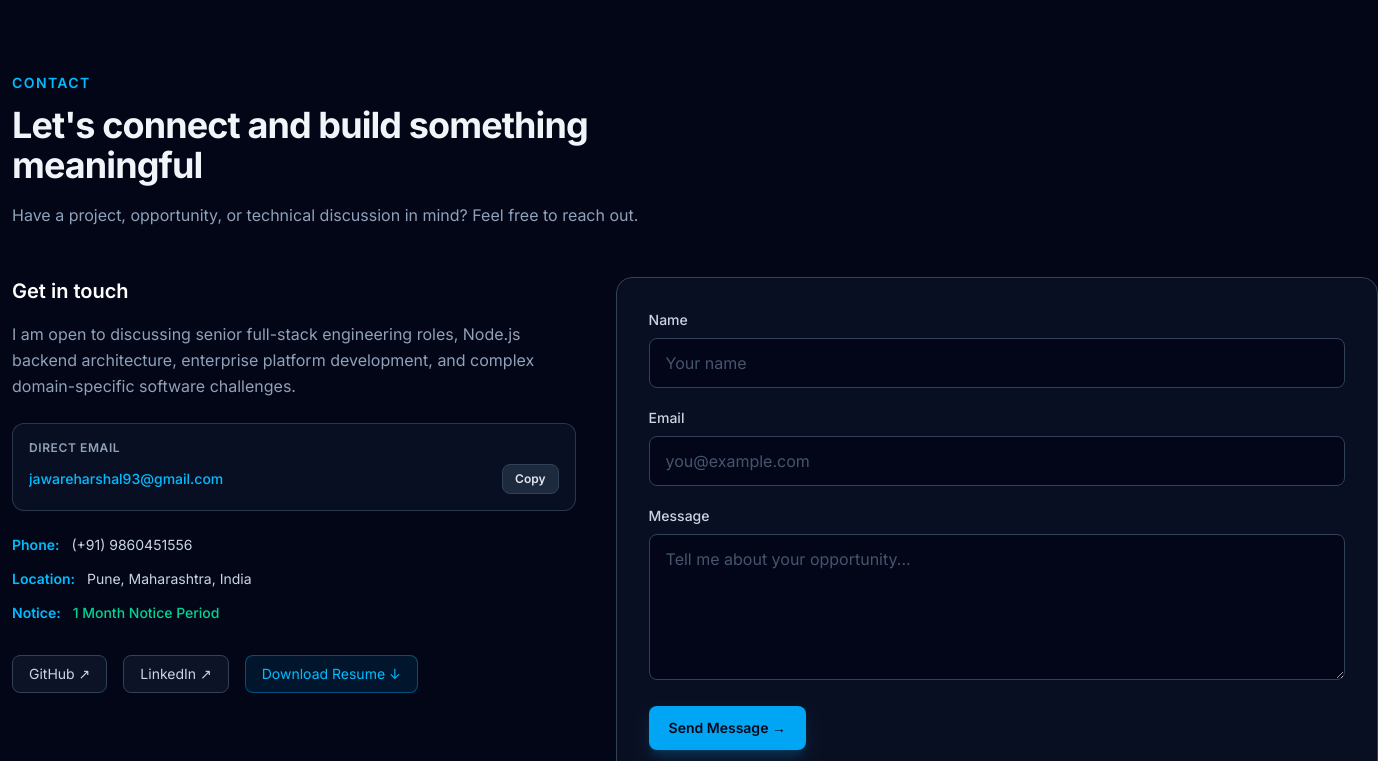
Test: Contact › shows validation errors for empty submission
The width and height of the screenshot is (1378, 761).
What coordinates should you click on to do the following:
click the button "Send Message →"
I would click on:
 (727, 728)
Its box is x1=648 y1=706 x2=806 y2=750.
(page scrolled)
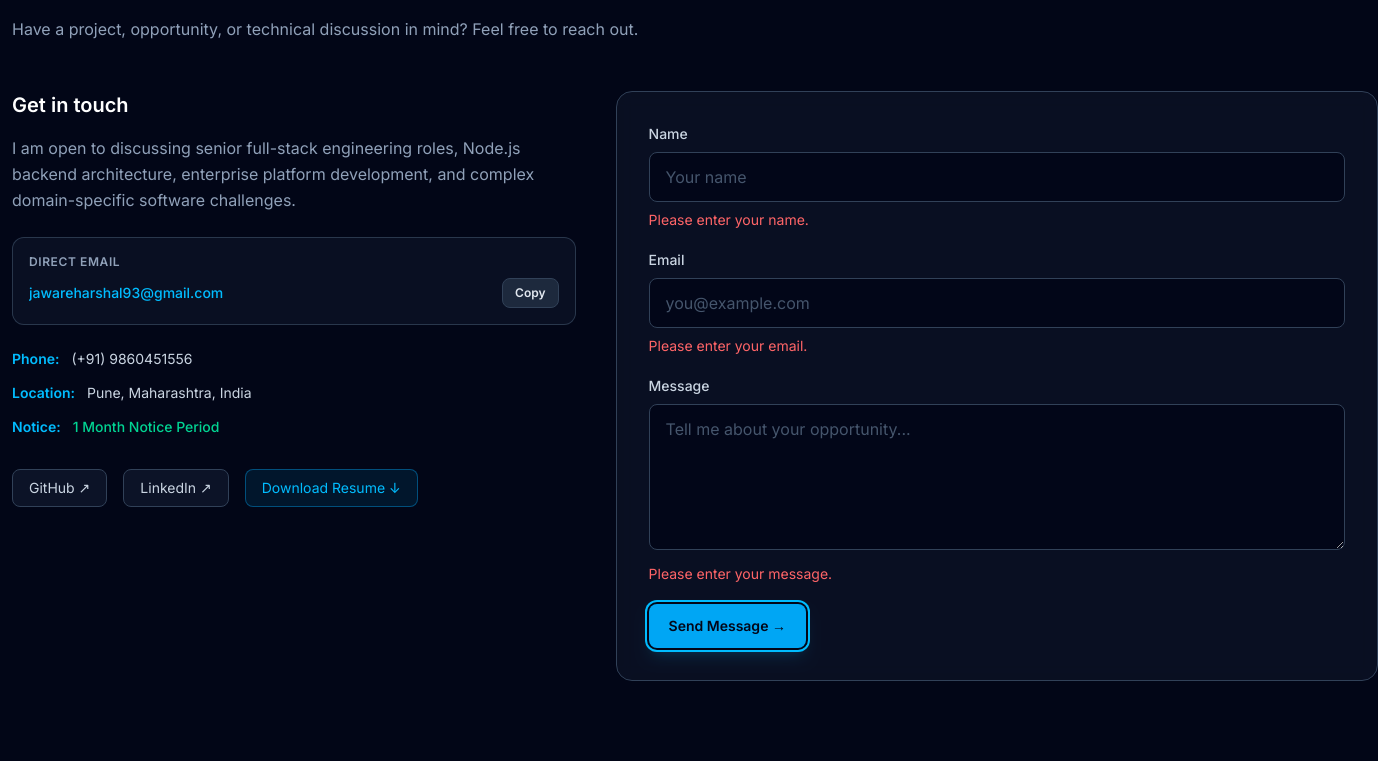
expect the text "Please enter your name." is shown: met, box x1=648 y1=211 x2=809 y2=228
expect the text "Please enter your email." is shown: met, box x1=648 y1=337 x2=807 y2=354
expect the text "Please enter your message." is shown: met, box x1=648 y1=565 x2=832 y2=582
